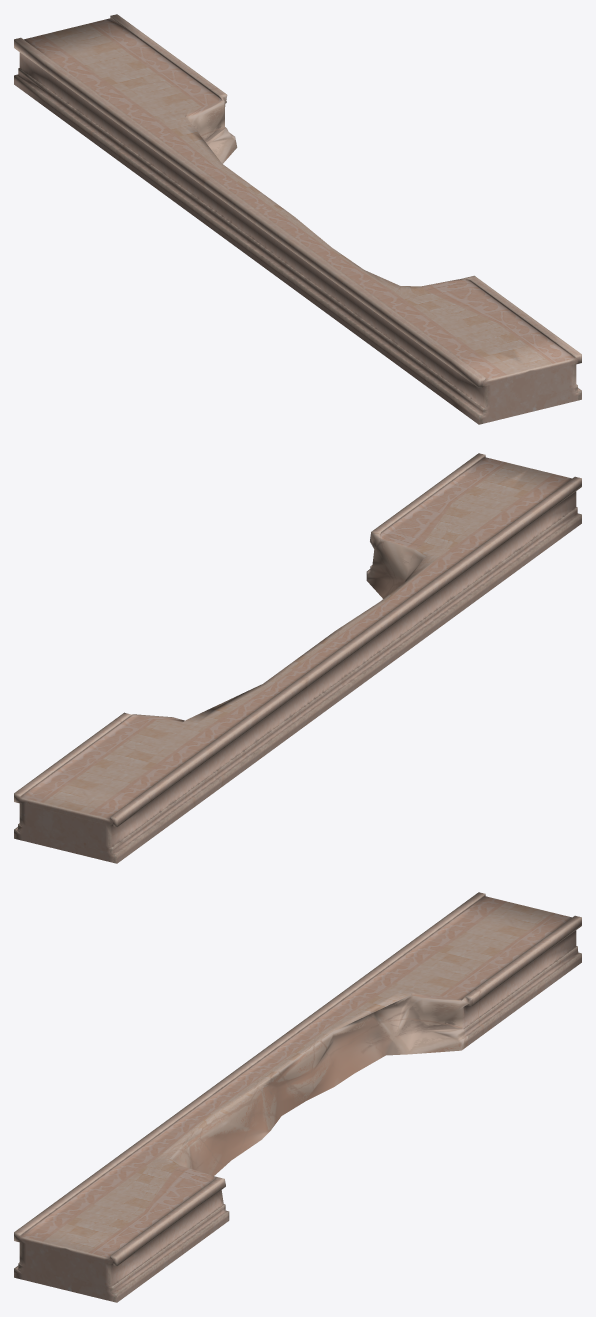
File: 右侧边缺口两格.fbx
3 renders of one model, top to bottom at view 1: azimuth 30°, elevation 25°; view 2: azimuth 150°, elevation 25°; view 3: azimuth 330°, elevation 25°, orthographic.
Parts seen in each view (by area): view 1: 平面.035; view 2: 平面.035; view 3: 平面.035.
Part boxes in pixels (x1,y1,x2,y2): 平面.035: [14, 14, 581, 424]; 平面.035: [14, 453, 581, 863]; 平面.035: [14, 892, 581, 1302].
Bounding box in the file's own units: 310 × 130 × 2419.
